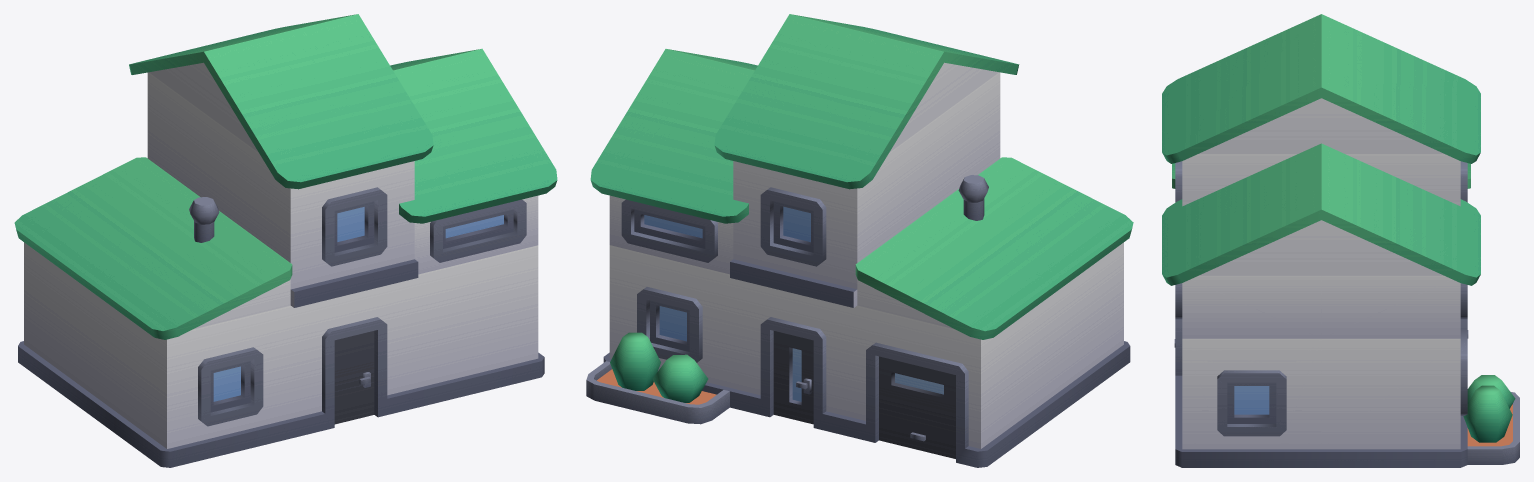
File: sports-field.glb
The picture shows the model from 3 angles, left to right: view 1: azimuth 30°, elevation 25°; view 2: azimuth 150°, elevation 25°; view 3: azimuth 270°, elevation 25°; orthographic projection. The views are drawn at different scales.
Parts seen in each view (by area): view 1: building-type-c; view 2: building-type-c; view 3: building-type-c.
Part boxes in pixels (bbox=[...]): building-type-c: bbox=[14, 14, 557, 467]; building-type-c: bbox=[586, 14, 1133, 467]; building-type-c: bbox=[1162, 14, 1519, 467].
Bounding box in the file's own units: 1.29 × 1.03 × 1.03.
Materials: 1 (1 with a texture image).
